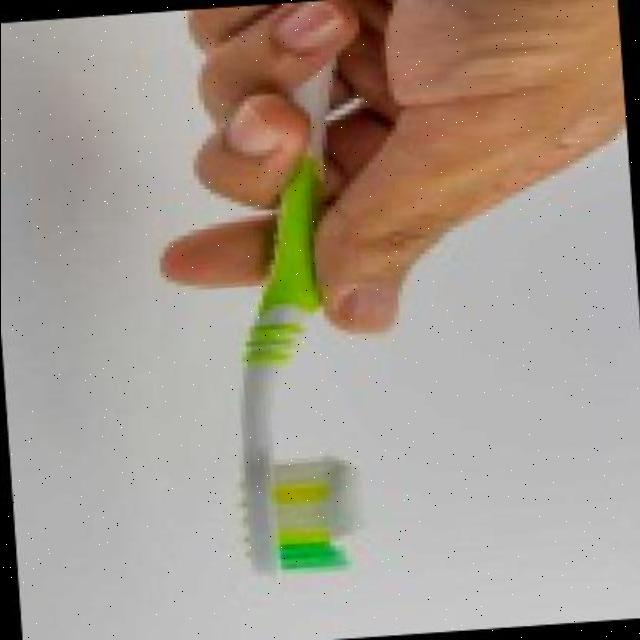toothbrush: (134, 0, 570, 616)
